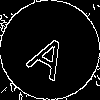A: (25, 25, 77, 82)
